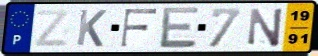7: (210, 7, 243, 49)
E: (158, 5, 201, 50)
F: (119, 7, 160, 48)
K: (74, 9, 109, 49)
N: (247, 6, 286, 48)
Z: (33, 8, 72, 49)
